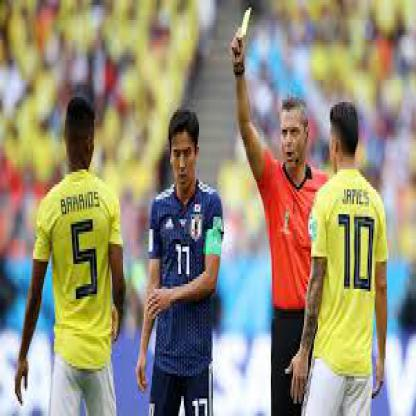foul: (213, 1, 260, 138)
